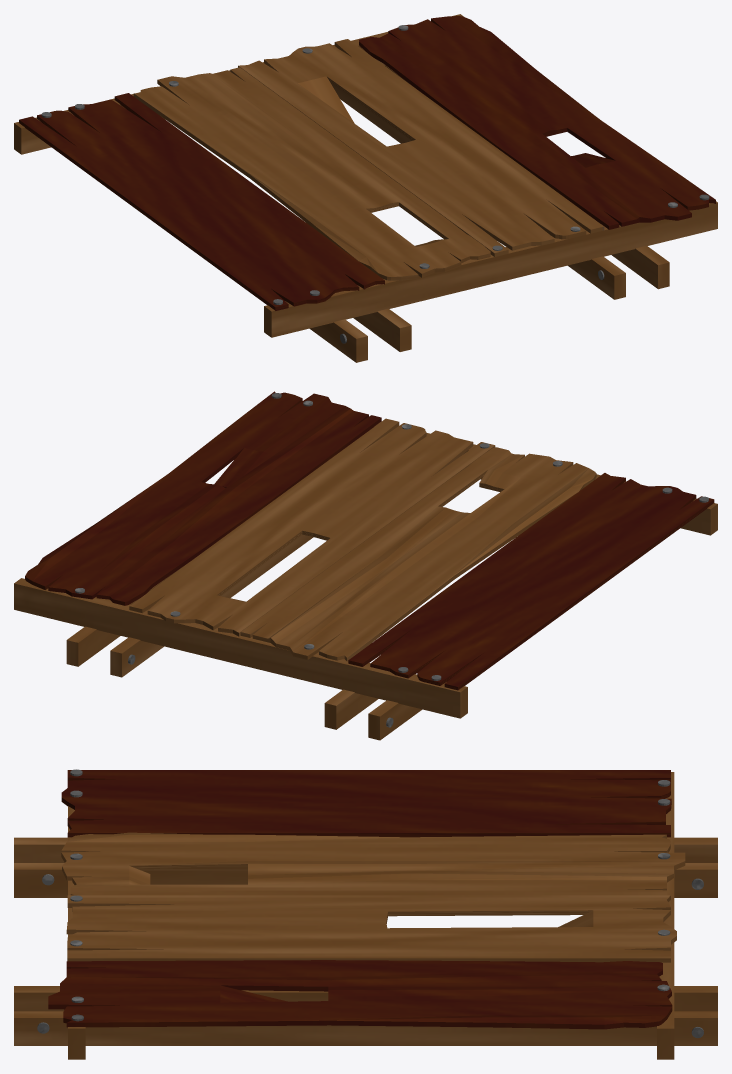
Rendered from Wooden dock no pillar.fbx.
3 views of the same model, one above another, from view 1: azimuth 30°, elevation 25°; view 2: azimuth 150°, elevation 25°; view 3: azimuth 270°, elevation 25° (orthographic). The views are drawn at different scales.
Visible parts, largest first — view 1: Dock; view 2: Dock; view 3: Dock.
Part boxes in pixels (bbox=[...]): Dock: bbox=[14, 14, 717, 362]; Dock: bbox=[14, 391, 717, 740]; Dock: bbox=[14, 769, 717, 1059].
Bounding box in the file's own units: 529 × 62.8 × 613.
